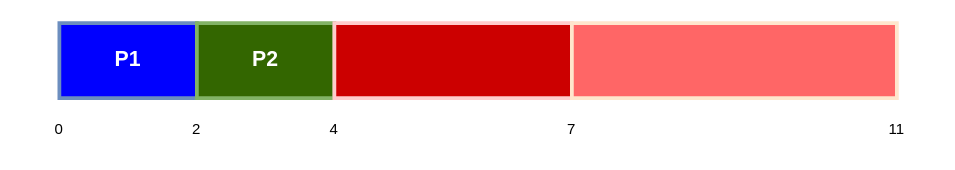
This 955x170 diagram has some shape labels left out. The shapes that lost their labels are listed below. From the top down, each one's box as (x1, y1, x2, y2) in pixels, then its label:
(332, 21, 573, 99): P3
(569, 21, 898, 99): P4
